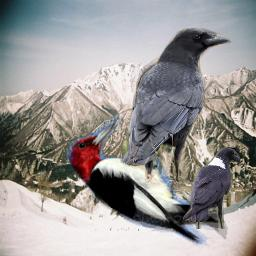Crow: (120, 28, 231, 185), (183, 147, 240, 229)
Woodpecker: (50, 115, 232, 252)
